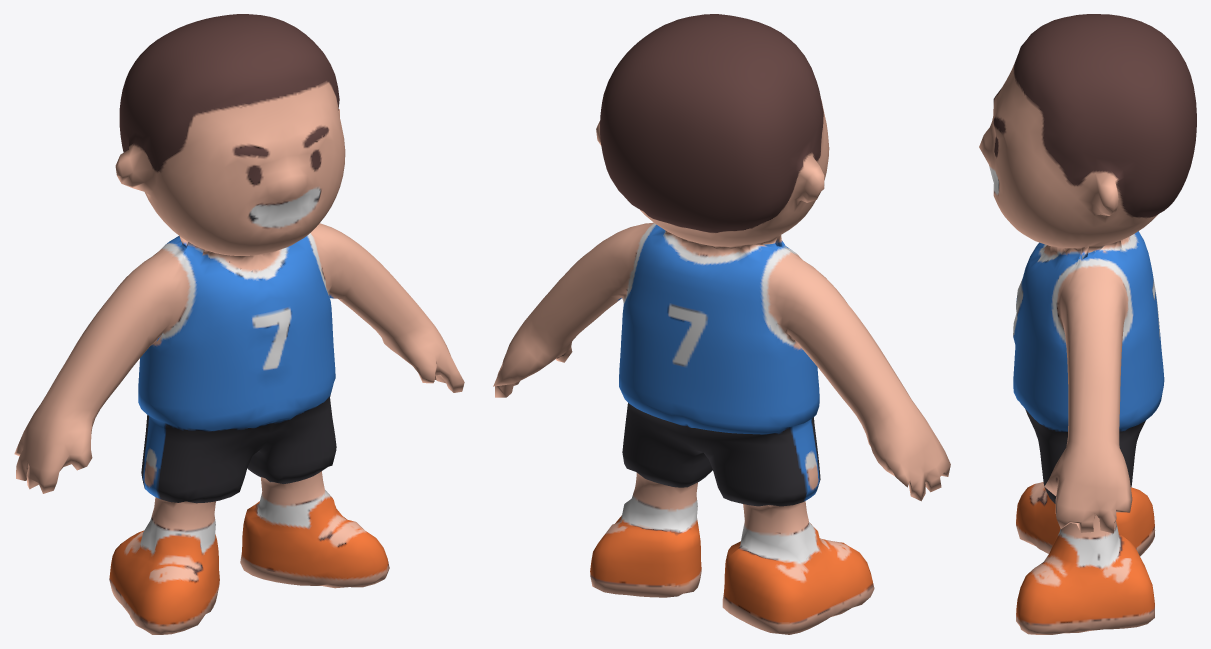
The model's file is pota-hero.glb.
The picture shows the model from 3 angles, left to right: view 1: azimuth 30°, elevation 25°; view 2: azimuth 150°, elevation 25°; view 3: azimuth 270°, elevation 25°; orthographic projection. The views are drawn at different scales.
Parts seen in each view (by area): view 1: character; view 2: character; view 3: character.
Boxes of the visible parts, x1,y1,x2,y2 form: character: [14, 14, 464, 634]; character: [493, 14, 950, 634]; character: [979, 14, 1196, 634].
Size of the model in its own units: 0.8027 by 0.9998 by 0.3584.
1 material, 1 textured.
